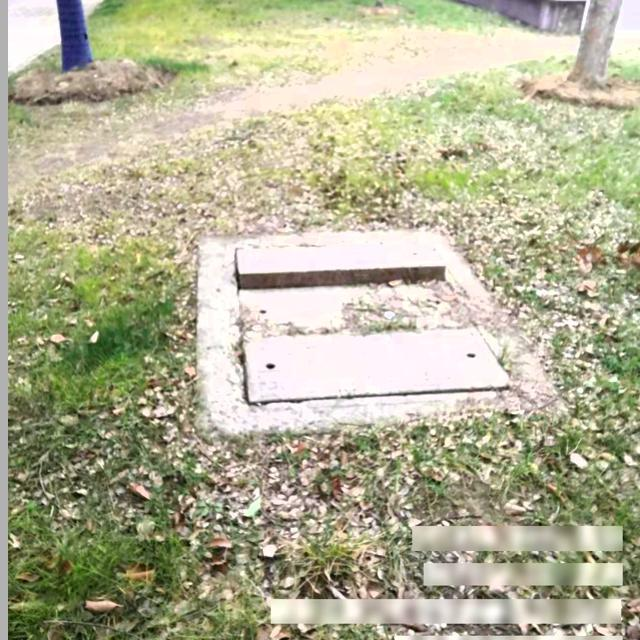uncovered: (226, 235, 516, 403)
